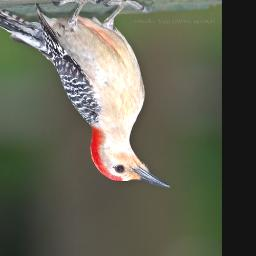Woodpecker: (0, 0, 175, 192)
